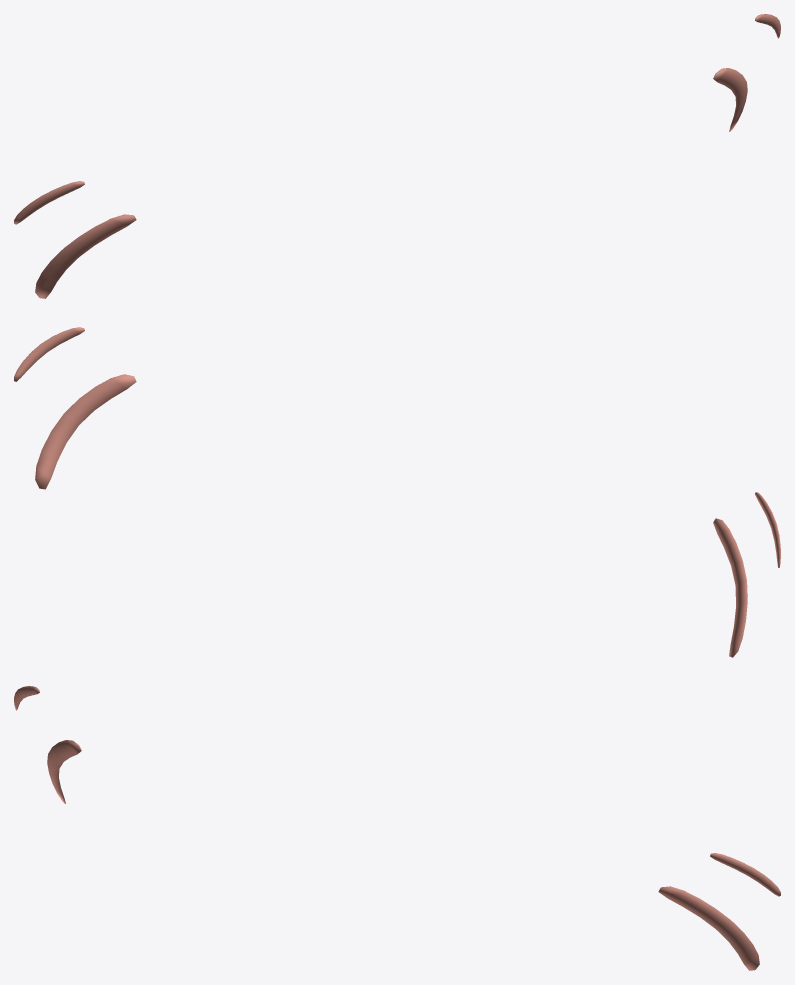
The picture shows the model from 3 angles, top to bottom: view 1: azimuth 30°, elevation 25°; view 2: azimuth 150°, elevation 25°; view 3: azimuth 330°, elevation 25°; orthographic projection.
Parts seen in each view (by area): view 1: wrinkle; view 2: wrinkle; view 3: wrinkle.
Boxes of the visible parts, x1,y1,x2,y2 form: wrinkle: (14,14,780,298); wrinkle: (14,327,780,657); wrinkle: (14,686,780,970).
Bounding box in the file's own units: 1.1 × 0.1926 × 0.098.
